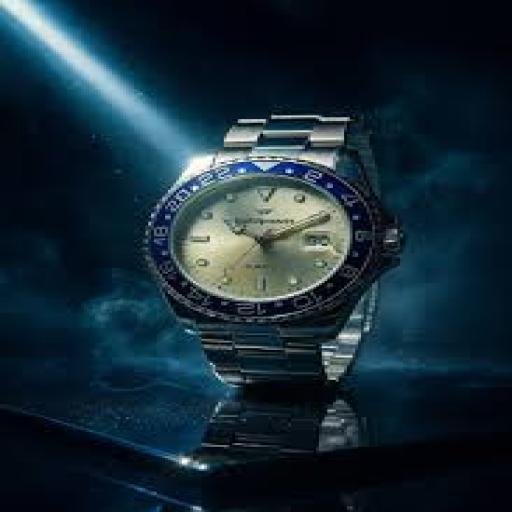KolSaati: (103, 70, 436, 463)
